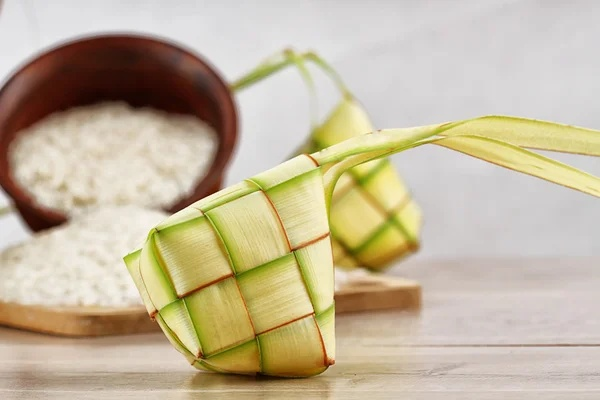ketupat: (122, 153, 336, 381)
